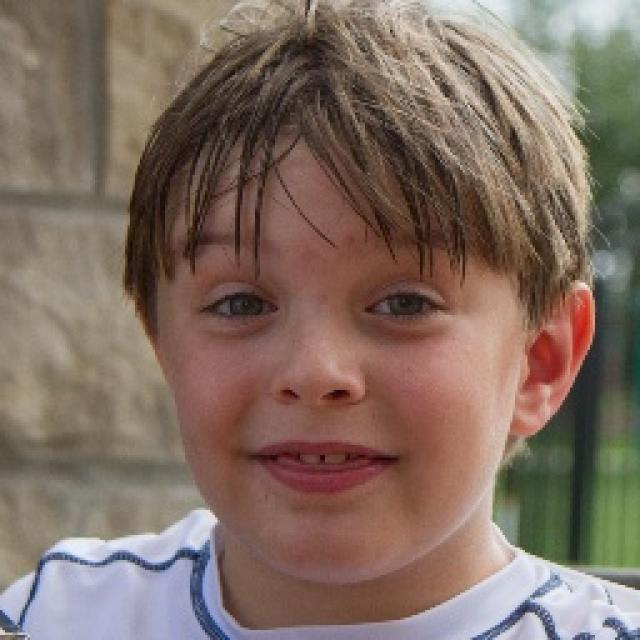earlobe: (508, 279, 595, 440)
